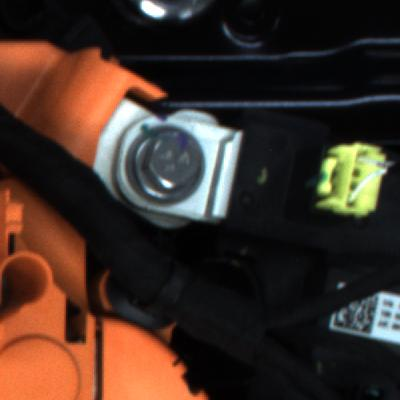nut_b: (117, 123, 204, 209)
